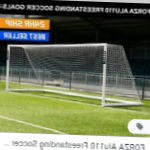goals: (6, 41, 144, 108)
